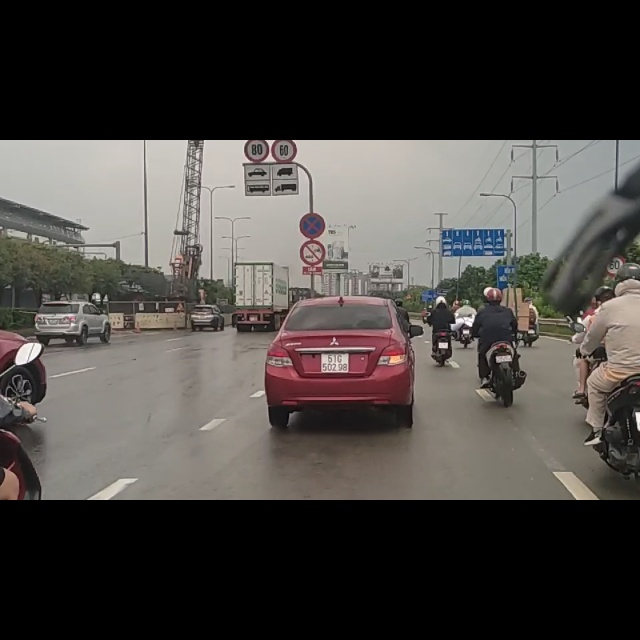bien_chi_dan: (299, 129, 325, 174), (271, 0, 297, 40), (244, 1, 269, 40)
